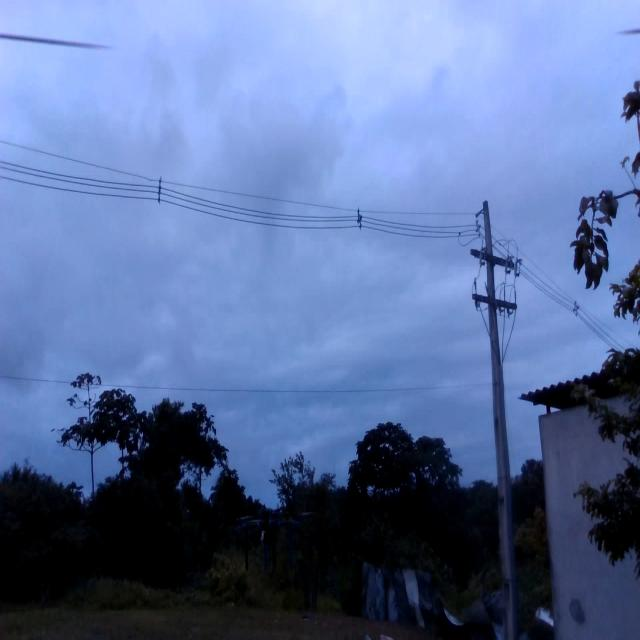-uav-: (231, 492, 316, 588)
